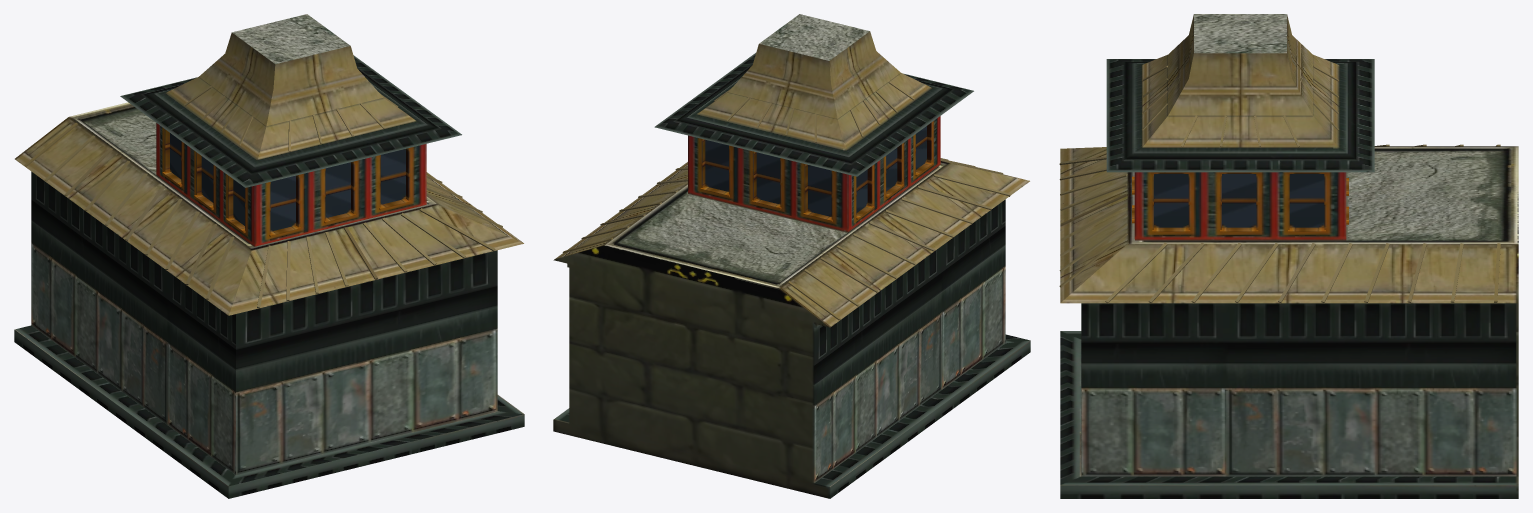
File: l_palacetwr_cad.glb
3 renders of one model, left to right at view 1: azimuth 30°, elevation 25°; view 2: azimuth 150°, elevation 25°; view 3: azimuth 270°, elevation 25°, orthographic. The views are drawn at different scales.
Visible parts, largest first — view 1: palace_twr; view 2: palace_twr; view 3: palace_twr.
Part boxes in pixels (x1=…): palace_twr: x1=14, y1=14, x2=524, y2=498; palace_twr: x1=553, y1=14, x2=1030, y2=498; palace_twr: x1=1059, y1=14, x2=1518, y2=498.
Bounding box in the file's own units: 12.83 × 14.92 × 16.03.
1 material, 1 textured.
